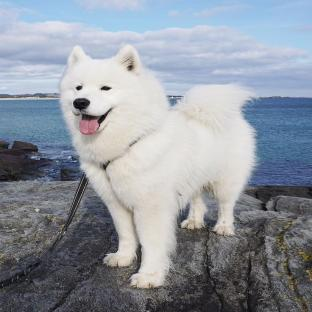Animal: (60, 45, 256, 288)
